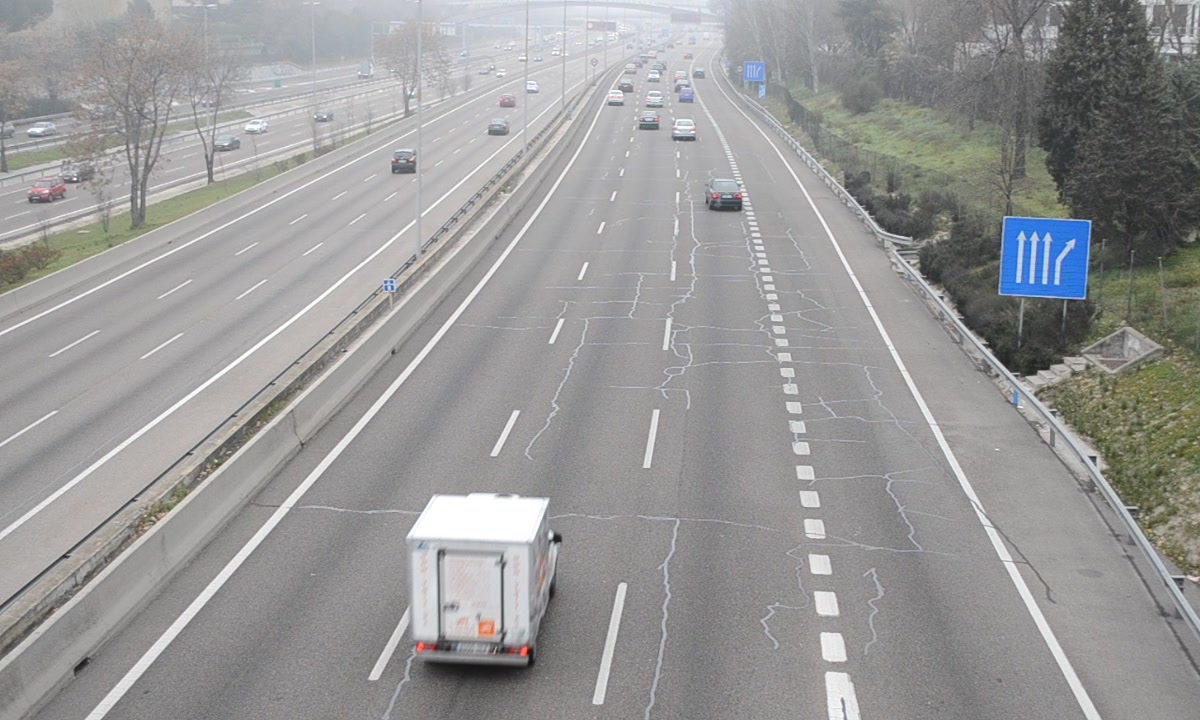car: (704, 176, 743, 212)
small-truck: (406, 495, 557, 665)
